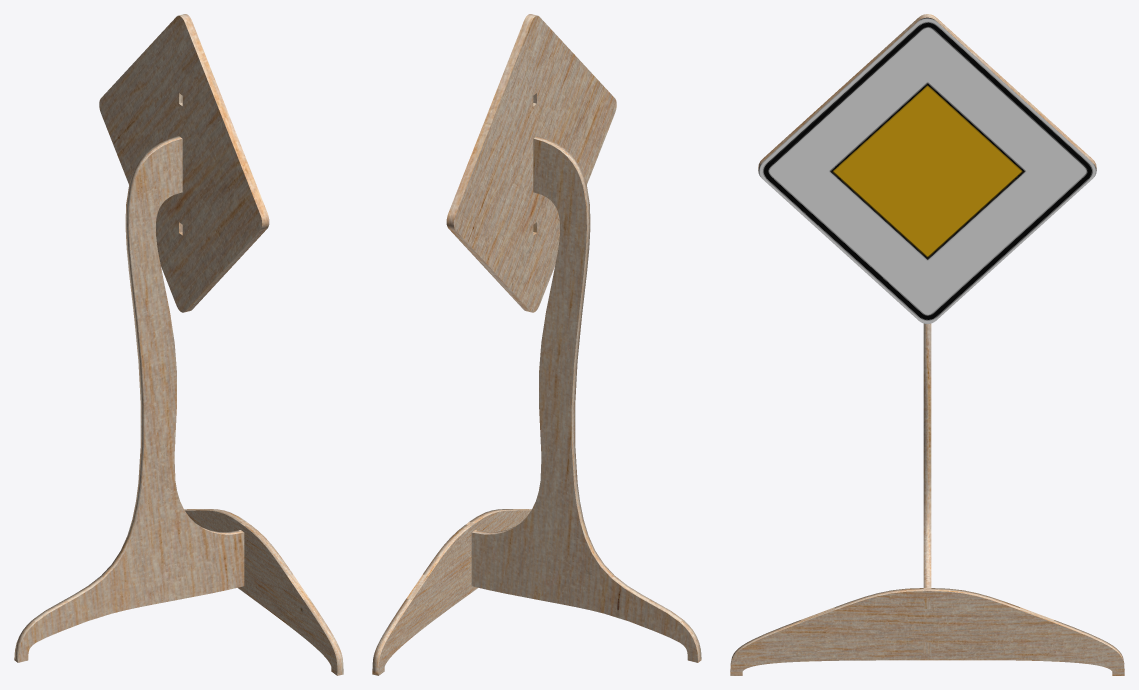
Rendered from Vorfahrt.dae.
3 renders of one model, left to right at view 1: azimuth 30°, elevation 25°; view 2: azimuth 150°, elevation 25°; view 3: azimuth 270°, elevation 25°, orthographic. The views are drawn at different scales.
Visible parts, largest first — view 1: Body1, Body2, Body1_1; view 2: Body1, Body2, Body1_1; view 3: Body2, Body1_1, Body1.
Part boxes in pixels (box(x1,y1,x2,y2)): Body1: box(14, 136, 244, 662); Body2: box(99, 14, 269, 312); Body1_1: box(184, 509, 343, 675); Body1: box(471, 136, 701, 662); Body2: box(446, 14, 616, 312); Body1_1: box(372, 509, 531, 675); Body2: box(758, 14, 1096, 323); Body1_1: box(730, 588, 1124, 675); Body1: box(923, 323, 931, 653).
Size of the model in its own units: 113 by 160 by 281.
Materials: 2 (2 with a texture image).
